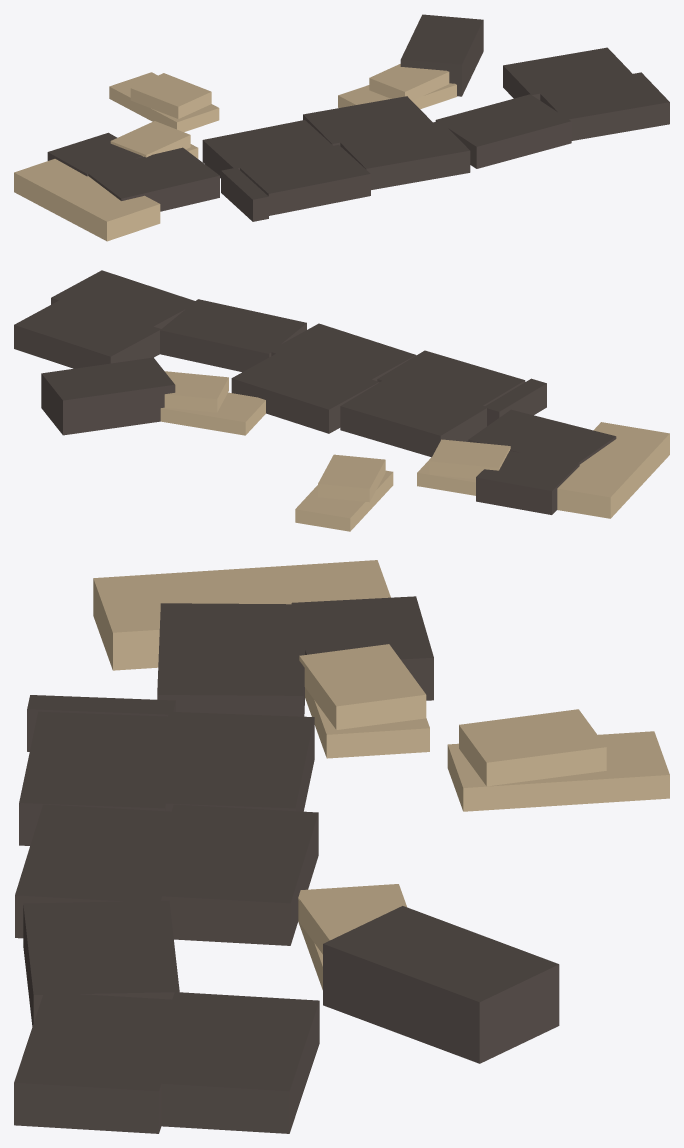
File: SM_PretilEsquinaPaso_v0_Recto_e3_Brecha_LOD1.fbx
The picture shows the model from 3 angles, top to bottom: view 1: azimuth 30°, elevation 25°; view 2: azimuth 150°, elevation 25°; view 3: azimuth 270°, elevation 25°; orthographic projection. The views are drawn at different scales.
Visible parts, largest first — view 1: SM_pretil_azotea_v43_LOD1; view 2: SM_pretil_azotea_v43_LOD1; view 3: SM_pretil_azotea_v43_LOD1.
Part boxes in pixels (x1,y1,x2,y2): SM_pretil_azotea_v43_LOD1: (14, 14, 669, 241); SM_pretil_azotea_v43_LOD1: (14, 270, 669, 531); SM_pretil_azotea_v43_LOD1: (14, 560, 669, 1133).
Size of the model in its own units: 4.85 by 0.26 by 2.51.
